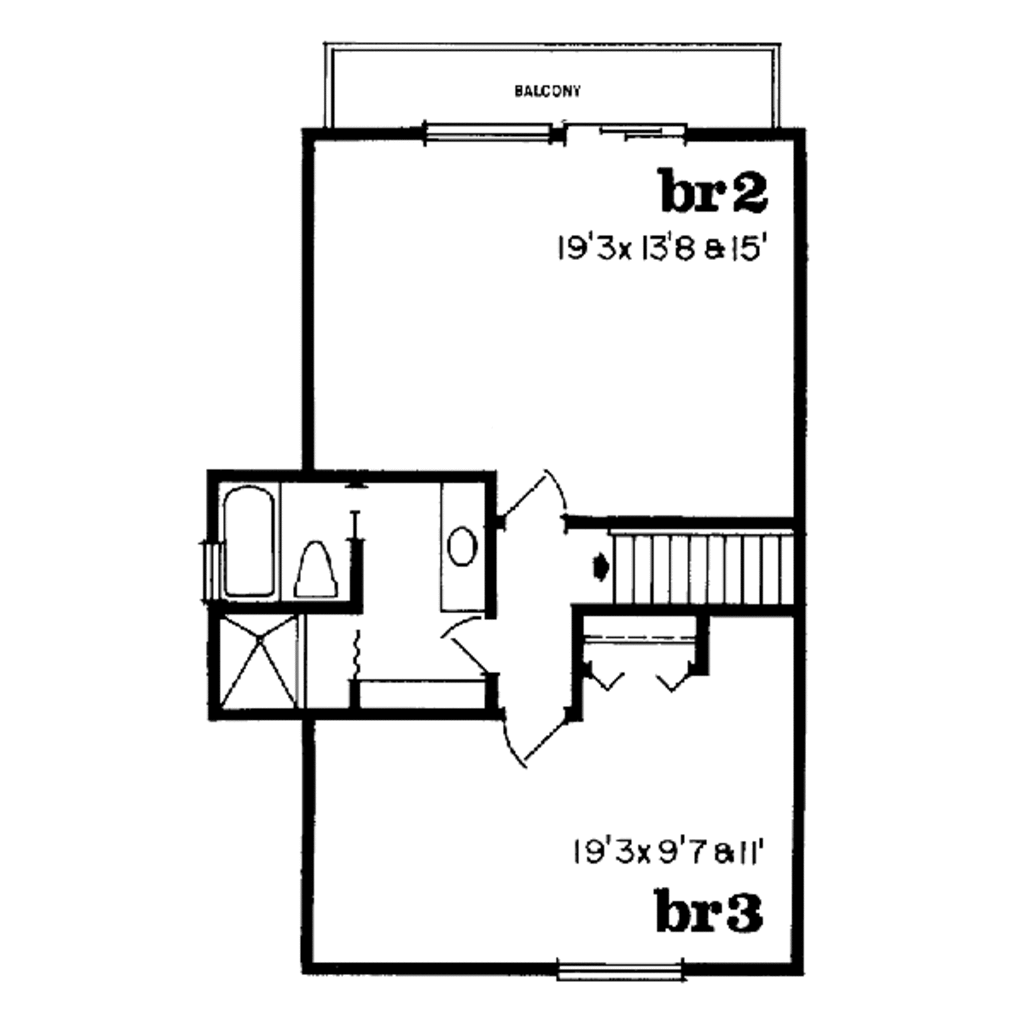door: (491, 468, 571, 528), (498, 706, 575, 765), (426, 616, 493, 681)
large_sink: (283, 535, 348, 601)
small_sink: (423, 473, 496, 609)
stairs: (559, 506, 805, 625)
tub: (204, 479, 288, 608)
window: (418, 112, 559, 155), (555, 955, 702, 985), (196, 543, 225, 601)
